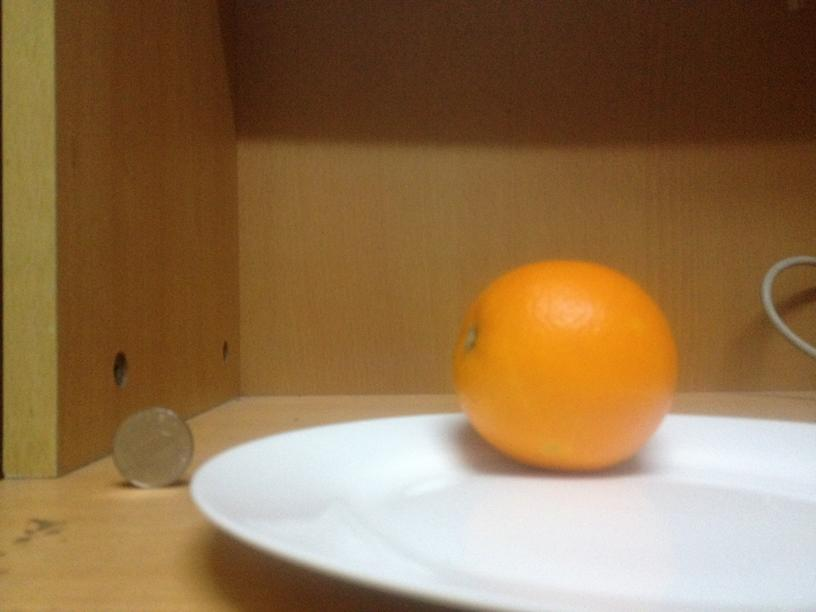coin: (113, 408, 191, 489)
orange: (451, 257, 678, 469)
